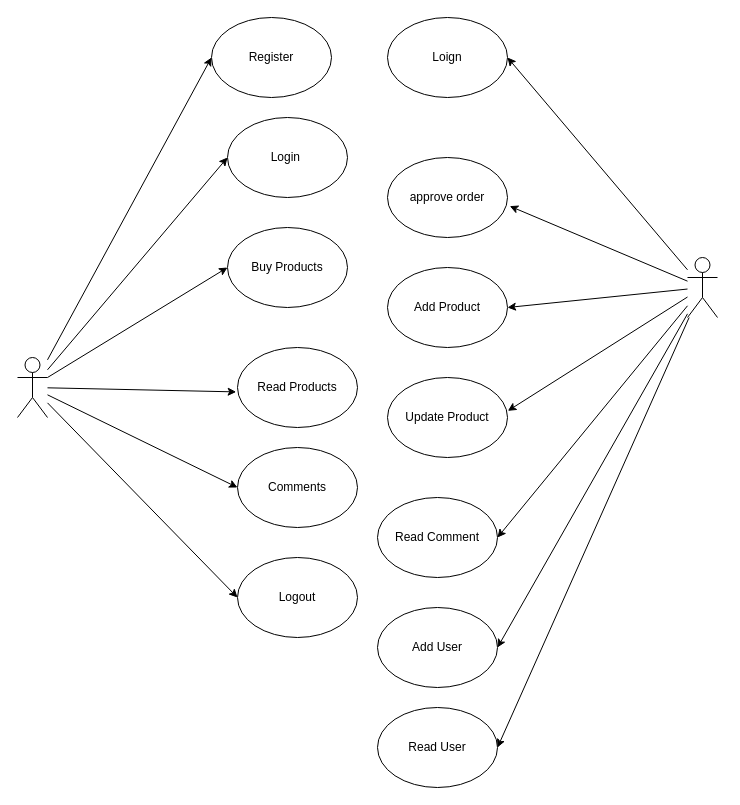
Some shapes in this 740 by 805 pixel diagram are drawn without their labels. The shapes that lost their labels are listed below. From the top down, each one's box as (x1, y1, x2, y2) in pixels, then its label:
(686, 256, 718, 318): Admins
(16, 356, 48, 418): Users
